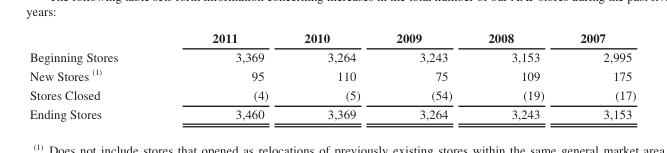table: (28, 28, 635, 122)
table column: (28, 28, 164, 122), (164, 28, 285, 122), (285, 28, 377, 122), (377, 28, 469, 122), (469, 28, 561, 122), (561, 28, 635, 122)
table column header: (28, 28, 635, 46)
table row: (28, 46, 635, 65), (28, 65, 635, 84), (28, 84, 635, 103), (28, 103, 635, 122), (28, 28, 635, 46)
